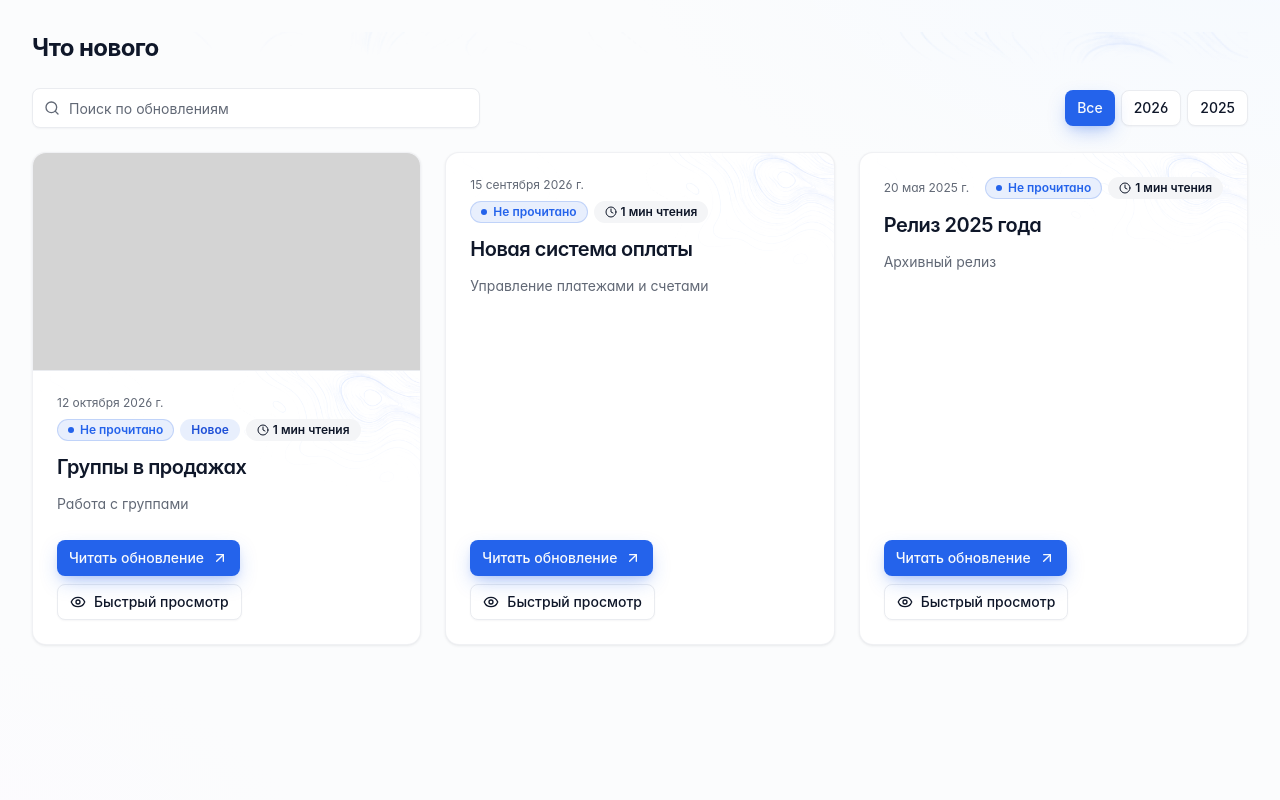
Scenario: filters the feed cards by search query and year chips, and allows resetting when search is empty
Expected: the link "Группы в продажах" is shown, x1=57 y1=455 x2=246 y2=479
Expected: the link "Новая система оплаты" is shown, x1=470 y1=237 x2=692 y2=261
Click the button "2025" at (1218, 108), box x1=1187 y1=90 x2=1248 y2=126
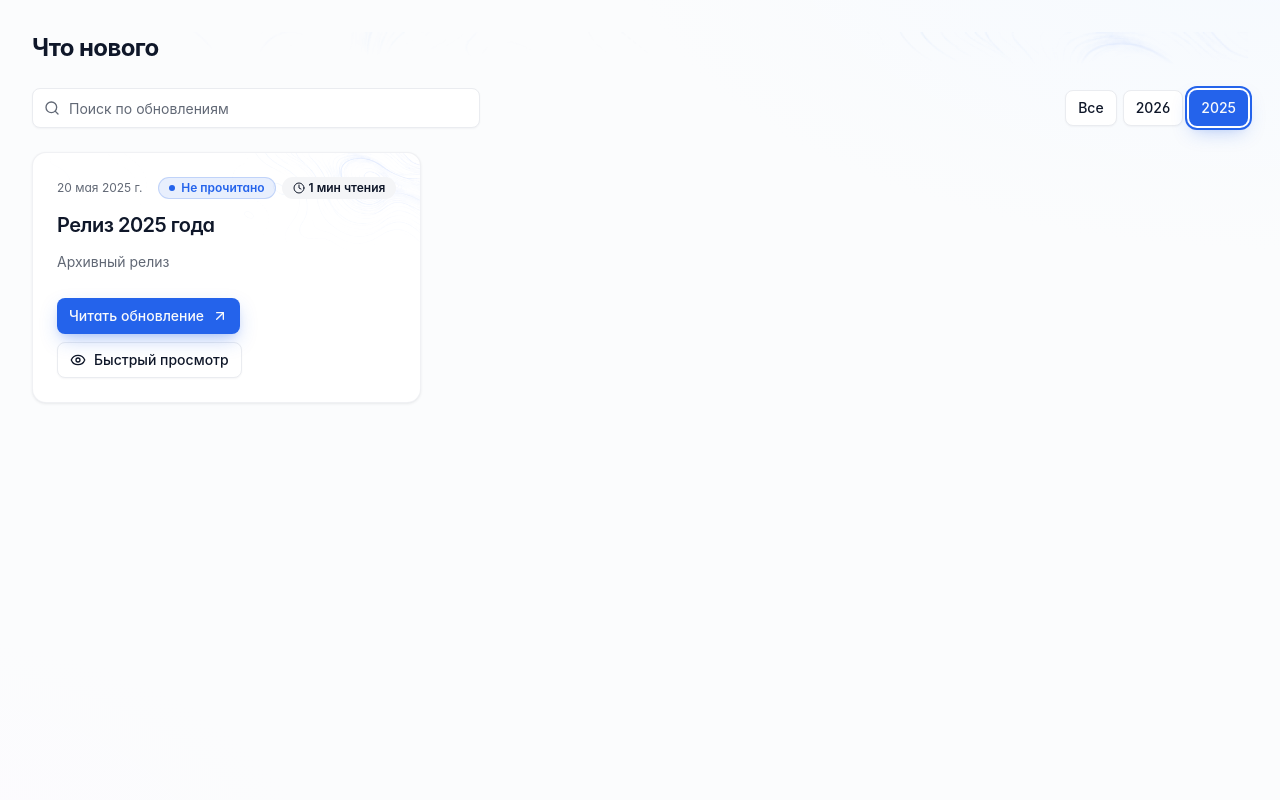
Expected: the link "Релиз 2025 года" is shown, x1=57 y1=213 x2=215 y2=237
Result: the link "Группы в продажах" is gone
Result: the link "Новая система оплаты" is gone
Click the button "2026" at (1153, 108), box x1=1123 y1=90 x2=1183 y2=126
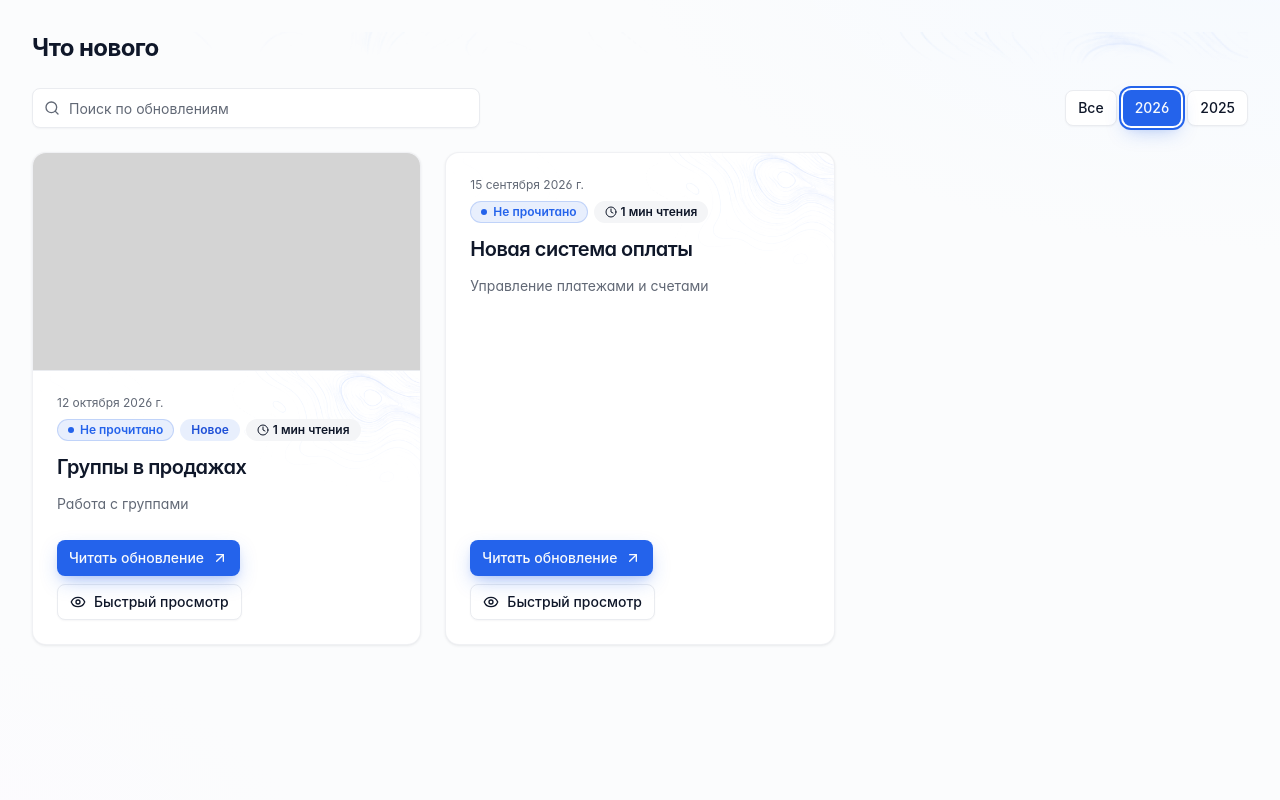
Result: the link "Группы в продажах" is shown at x1=57 y1=455 x2=246 y2=479
Result: the link "Новая система оплаты" is shown at x1=470 y1=237 x2=692 y2=261
Result: the link "Релиз 2025 года" is gone
Click the button "Все" at (1091, 108), box x1=1065 y1=90 x2=1117 y2=126
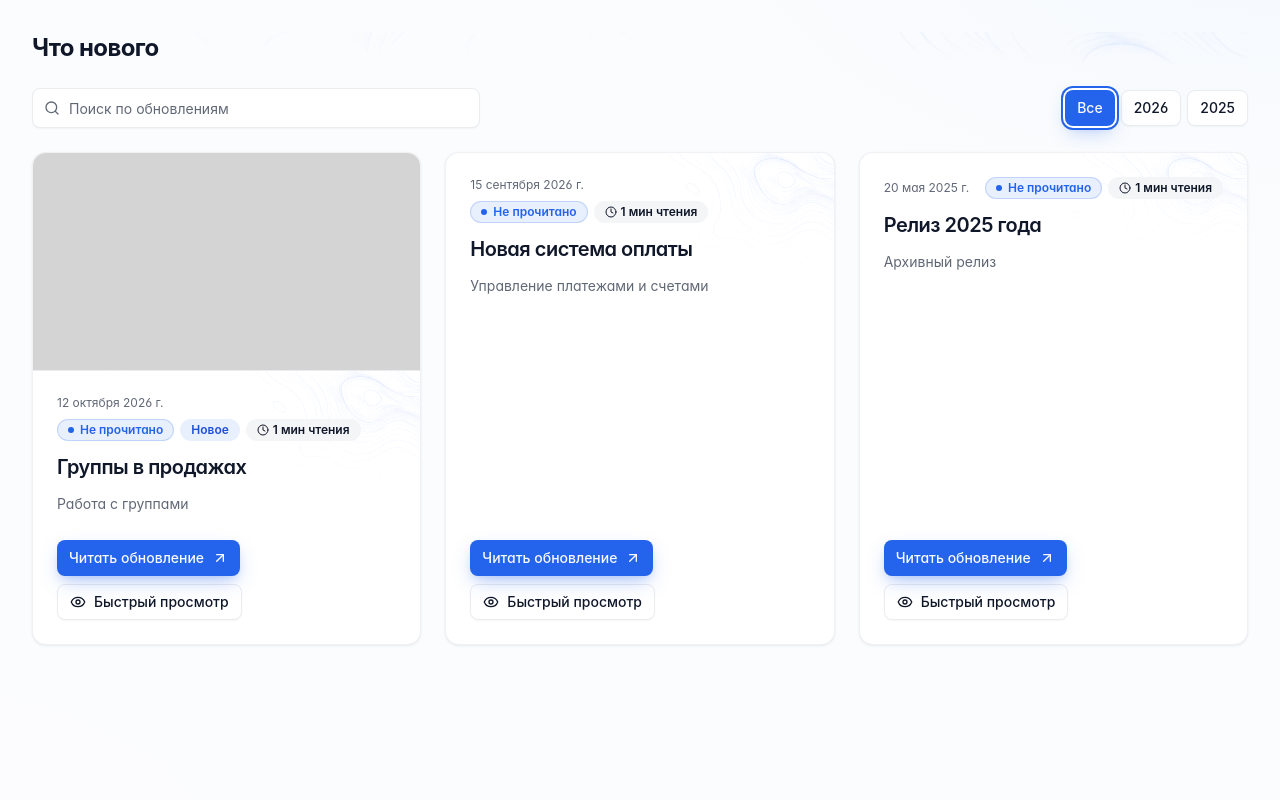
Result: the link "Группы в продажах" is shown at x1=57 y1=455 x2=246 y2=479
Result: the link "Релиз 2025 года" is shown at x1=884 y1=213 x2=1041 y2=237
Type "оплаты" into the search field labelled "Поиск по обновлениям" at (256, 108), box x1=32 y1=88 x2=480 y2=128
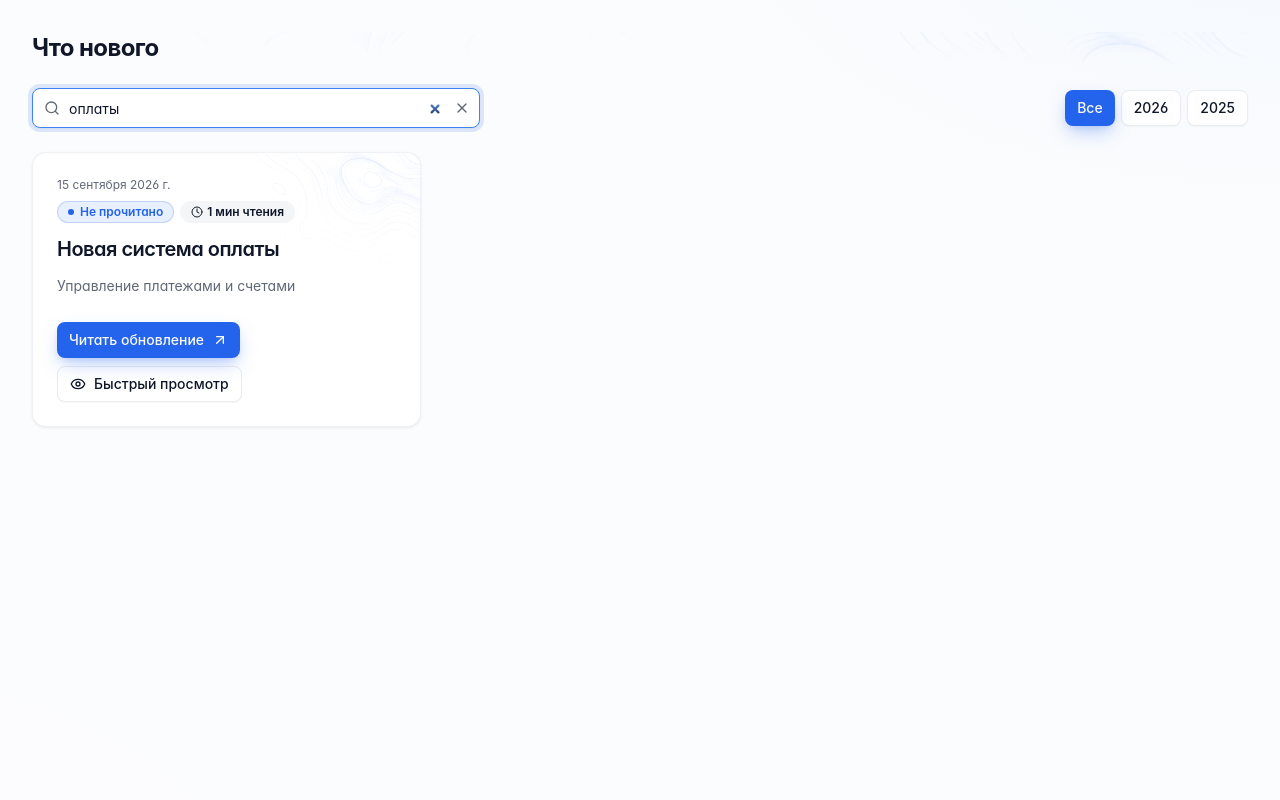
Result: the link "Новая система оплаты" is shown at x1=57 y1=237 x2=279 y2=261
Result: the link "Группы в продажах" is gone
Replace the text in the search field named "Поиск по обновлениям" with "несуществующий_запрос_123" at (256, 108), box x1=32 y1=88 x2=480 y2=128
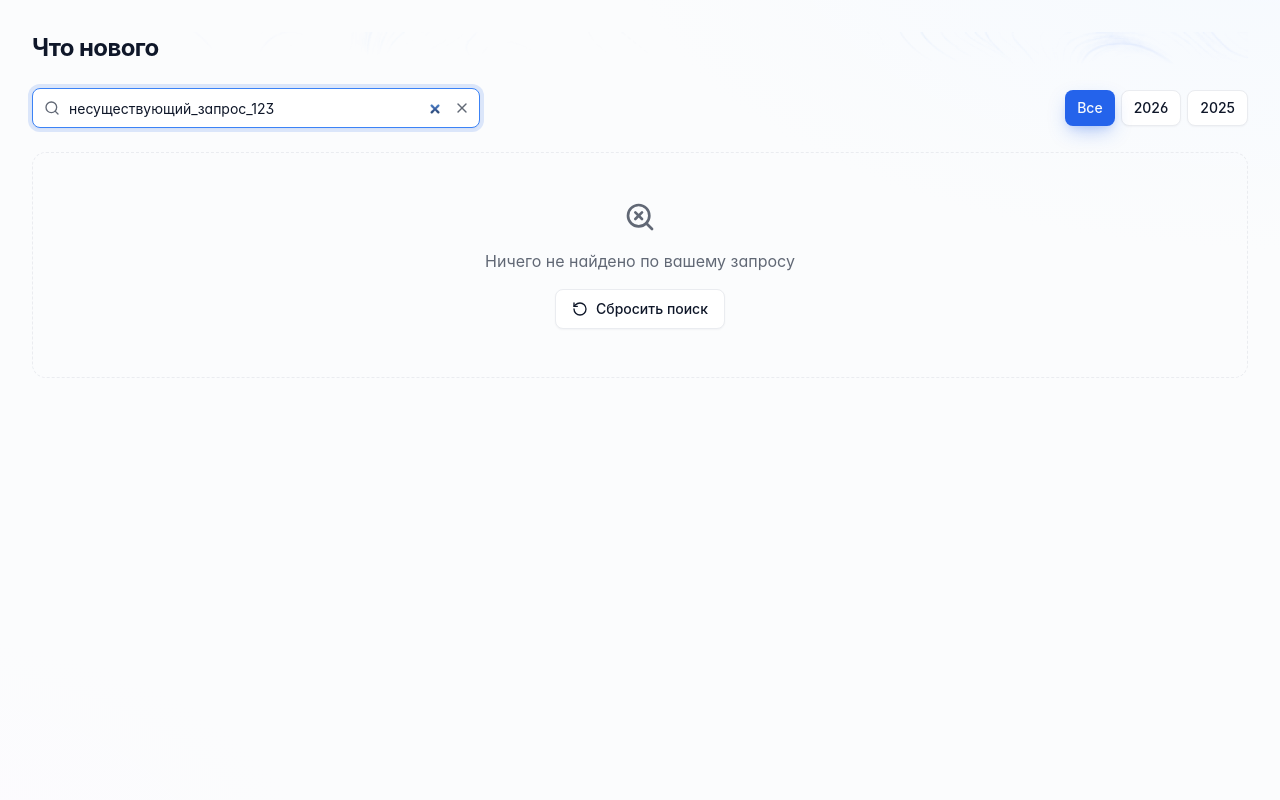
Result: the text "Ничего не найдено по вашему запросу" is shown at x1=485 y1=249 x2=795 y2=273
Click the button "Сбросить поиск" at (640, 309), box x1=555 y1=289 x2=725 y2=329
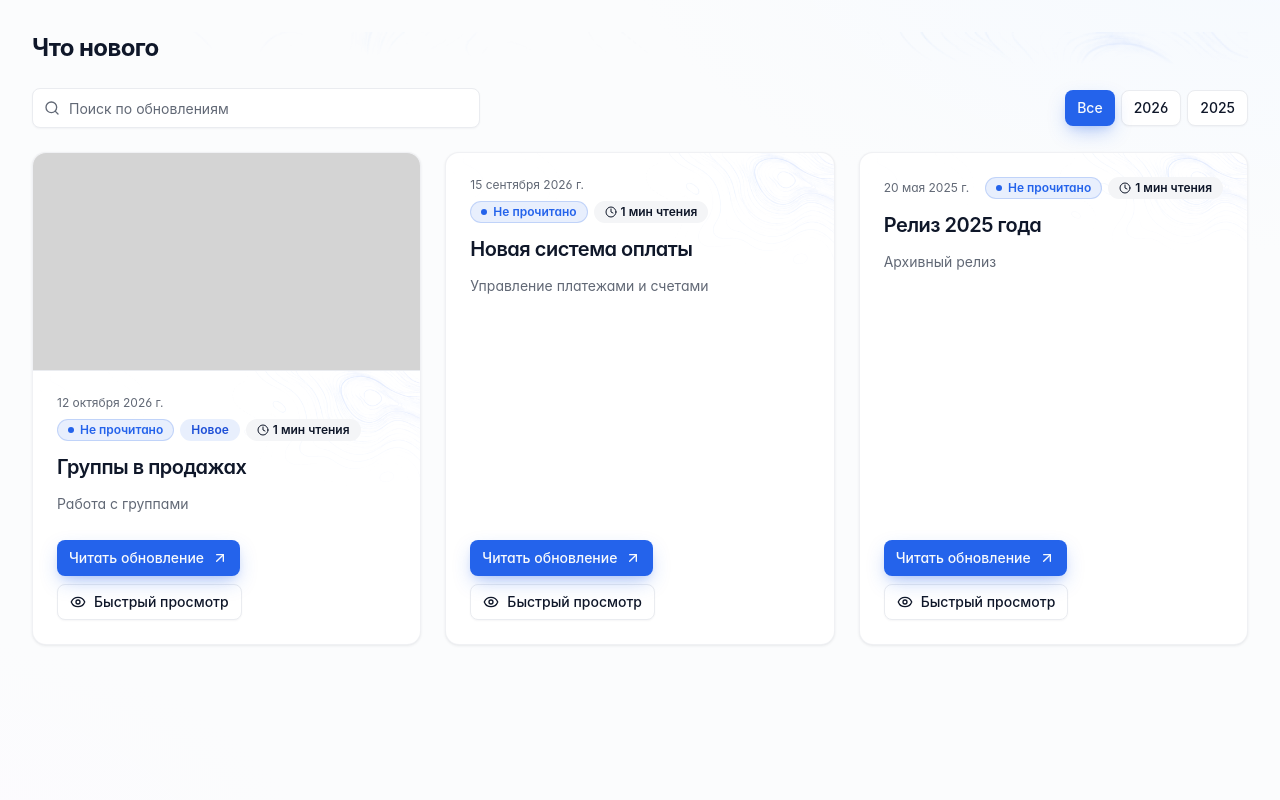
Result: the link "Группы в продажах" is shown at x1=57 y1=455 x2=246 y2=479
Result: the link "Новая система оплаты" is shown at x1=470 y1=237 x2=692 y2=261
